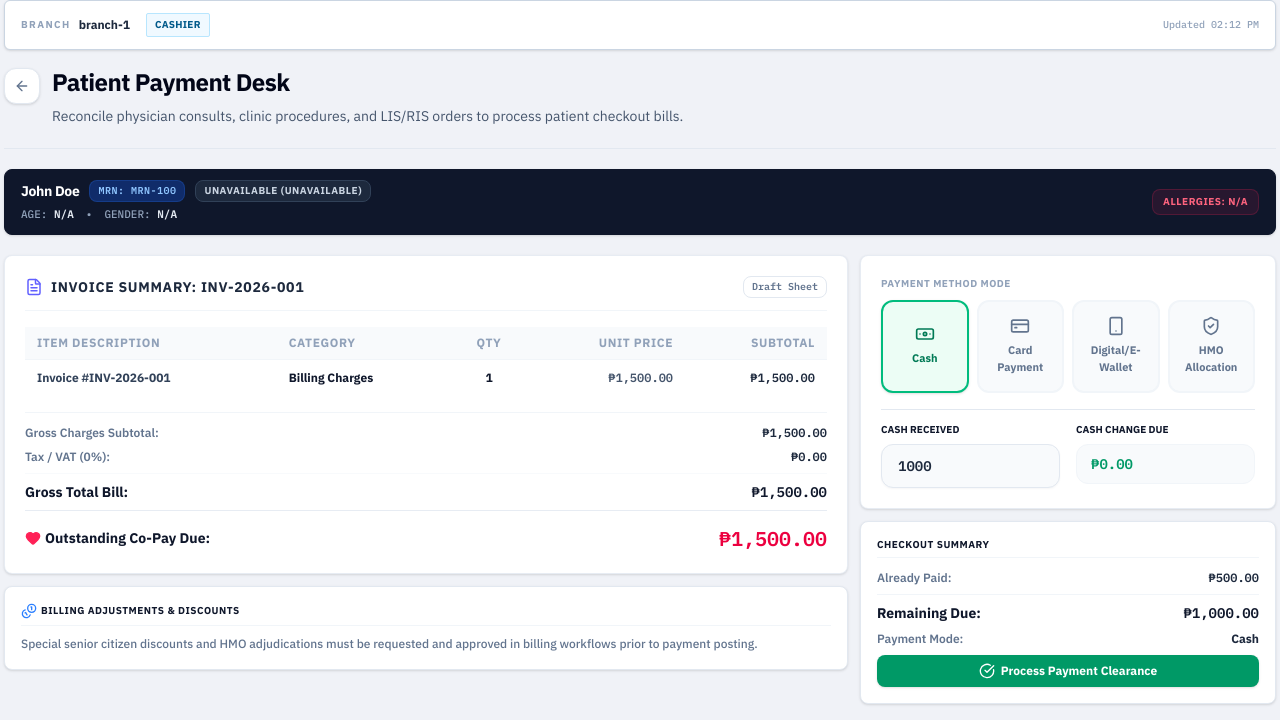
Test: PatientBillingPage Runtime Tests › shows confirmation modal when submitting and processes payment on confirmation
The width and height of the screenshot is (1280, 720).
Click the button "Process Payment Clearance" at (1068, 671), box left=877, top=655, right=1259, bottom=687
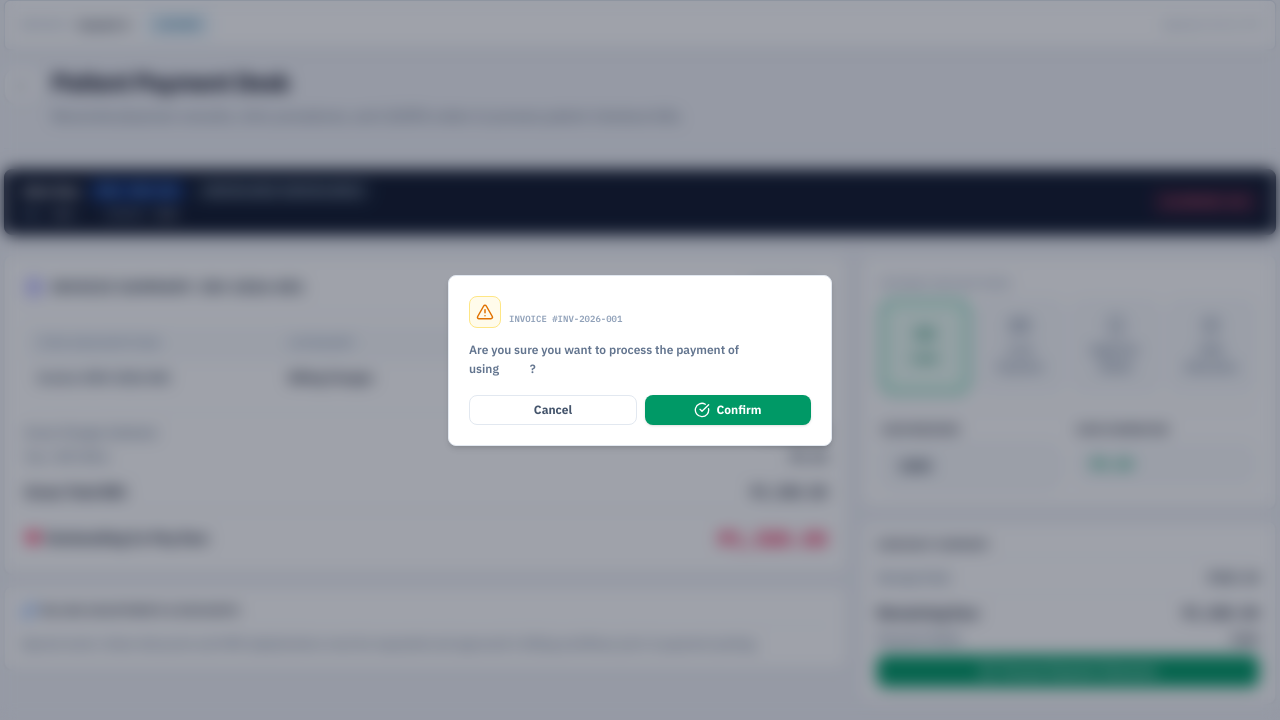
Now the text "Are you sure you want to process the payment of" is shown, box left=469, top=342, right=742, bottom=356
Click the button "Confirm" at (728, 410), box left=645, top=394, right=811, bottom=424
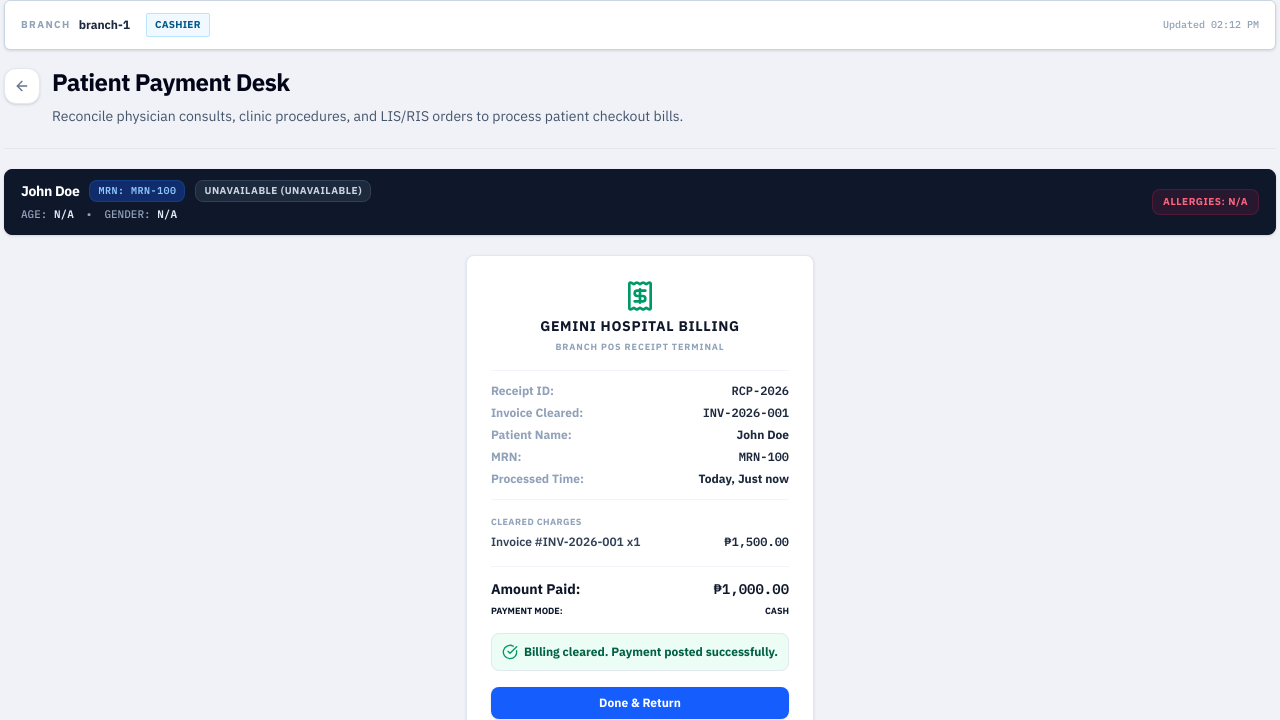
Now the text "Billing cleared. Payment posted successfully." is shown, box left=491, top=633, right=789, bottom=671
